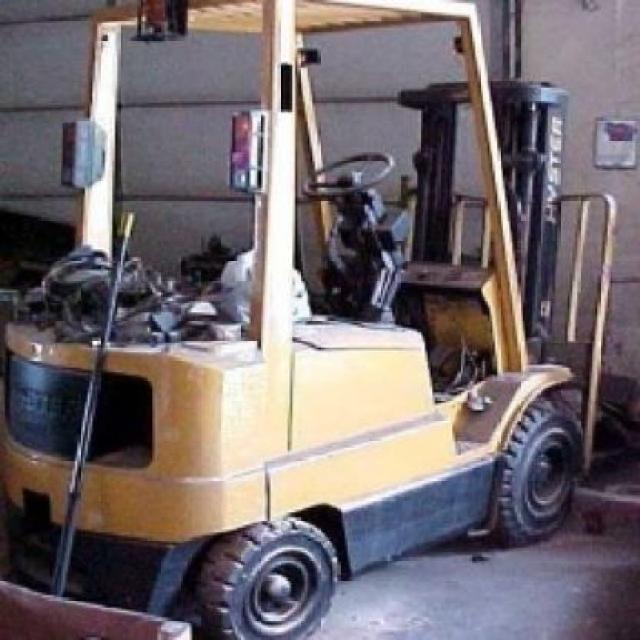forklift: (13, 2, 576, 635)
